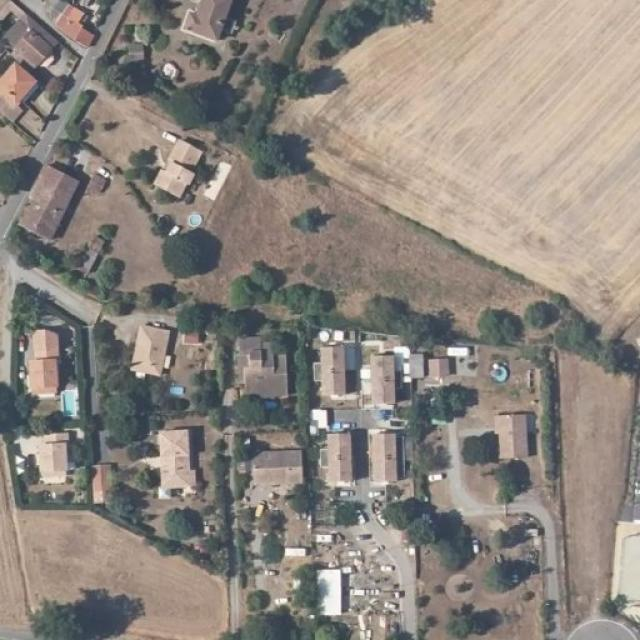maison: (18, 159, 79, 235), (151, 134, 215, 205), (238, 328, 299, 400), (16, 428, 82, 494), (152, 413, 201, 499), (313, 326, 362, 406), (18, 329, 64, 400), (123, 318, 174, 379), (29, 0, 98, 44), (0, 55, 40, 128), (364, 336, 404, 404), (246, 444, 306, 489), (366, 426, 408, 488), (178, 0, 231, 39), (318, 431, 354, 486), (504, 395, 536, 440), (183, 332, 200, 348)
piscine: (56, 380, 90, 423), (482, 362, 512, 387), (183, 210, 206, 232), (252, 396, 282, 412), (164, 384, 188, 397)
